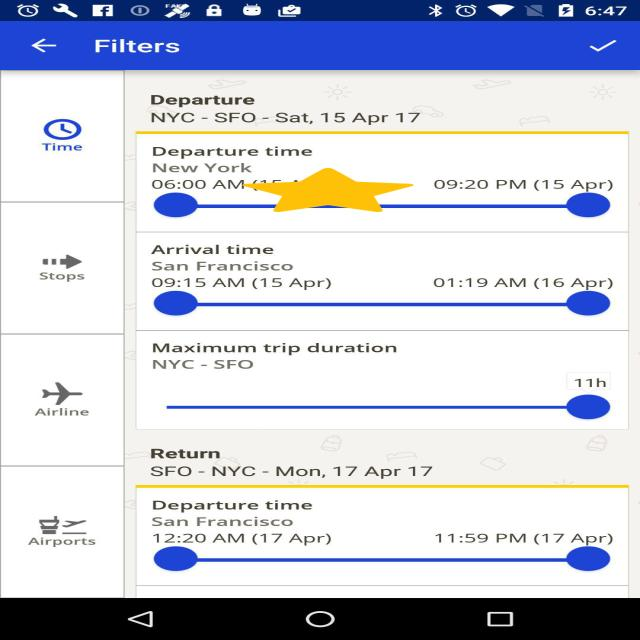forced continuity: (242, 168, 414, 212)
